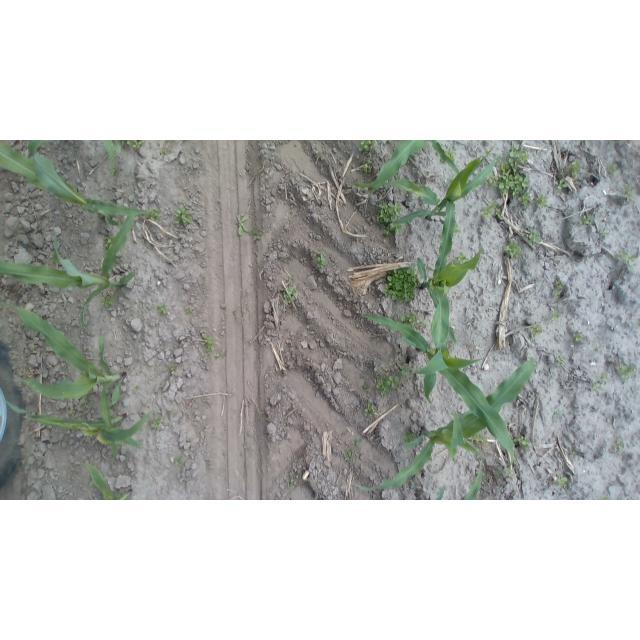Maize: (356, 293, 512, 468), (352, 358, 537, 491), (2, 192, 139, 337), (4, 306, 129, 436), (3, 143, 154, 225), (3, 392, 156, 461), (414, 201, 485, 345), (380, 145, 500, 226), (351, 140, 458, 188), (428, 465, 484, 500), (85, 463, 135, 500), (101, 141, 121, 172), (24, 141, 49, 158)
Weeds: (496, 145, 532, 201), (385, 267, 419, 304), (376, 201, 404, 238), (397, 310, 427, 331), (376, 374, 400, 396), (619, 251, 640, 273), (507, 146, 530, 165), (231, 307, 249, 329), (481, 201, 503, 219), (175, 204, 193, 226), (234, 213, 250, 236), (201, 334, 215, 359), (504, 240, 522, 259), (282, 286, 301, 303), (618, 363, 635, 382), (470, 434, 490, 450), (515, 435, 532, 452), (568, 159, 583, 178), (315, 250, 327, 271), (364, 401, 377, 420), (358, 140, 376, 153), (123, 141, 146, 151), (518, 193, 532, 208), (101, 295, 117, 308), (527, 228, 540, 244), (499, 467, 516, 479), (553, 280, 564, 298), (554, 178, 567, 193), (530, 322, 543, 337), (536, 194, 548, 209), (622, 184, 633, 200), (398, 364, 412, 376), (453, 252, 467, 264), (343, 448, 355, 462), (361, 160, 373, 173), (149, 208, 162, 220), (446, 147, 457, 161), (486, 174, 495, 191), (572, 331, 584, 343), (157, 303, 169, 315), (402, 431, 414, 443), (251, 228, 262, 241), (581, 215, 593, 226), (556, 476, 569, 486), (615, 438, 625, 450), (150, 418, 162, 428), (103, 237, 111, 251), (553, 410, 563, 421), (173, 456, 184, 466), (550, 311, 560, 322), (607, 164, 619, 173), (79, 398, 92, 406), (169, 363, 179, 373), (353, 437, 363, 447), (600, 373, 609, 384), (556, 356, 566, 365), (600, 228, 610, 237), (592, 383, 602, 392), (220, 351, 229, 360), (362, 382, 371, 391), (111, 169, 122, 176), (285, 275, 296, 282), (69, 406, 77, 415), (294, 472, 303, 480), (185, 307, 194, 315), (594, 346, 602, 354), (281, 368, 288, 377), (257, 410, 266, 417), (132, 385, 139, 393), (243, 442, 250, 450), (159, 149, 166, 156), (571, 450, 578, 457), (311, 331, 318, 338), (600, 495, 612, 499), (288, 481, 295, 487), (139, 440, 146, 445), (512, 491, 518, 496)
